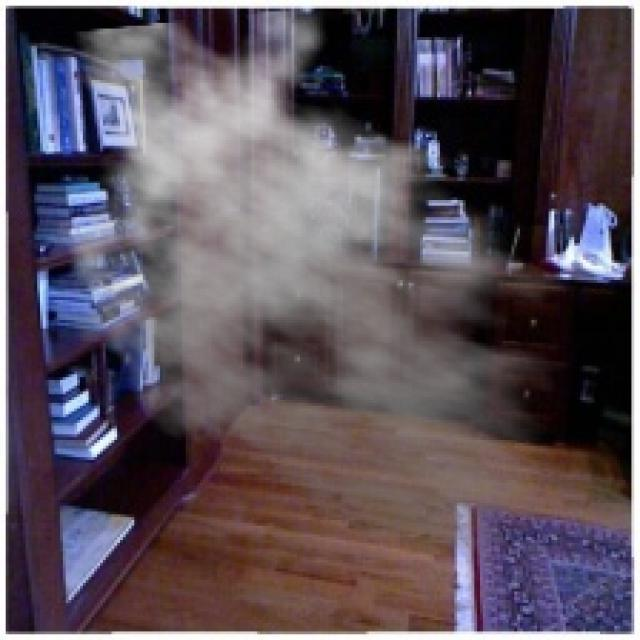Smoke: (37, 6, 603, 560)
